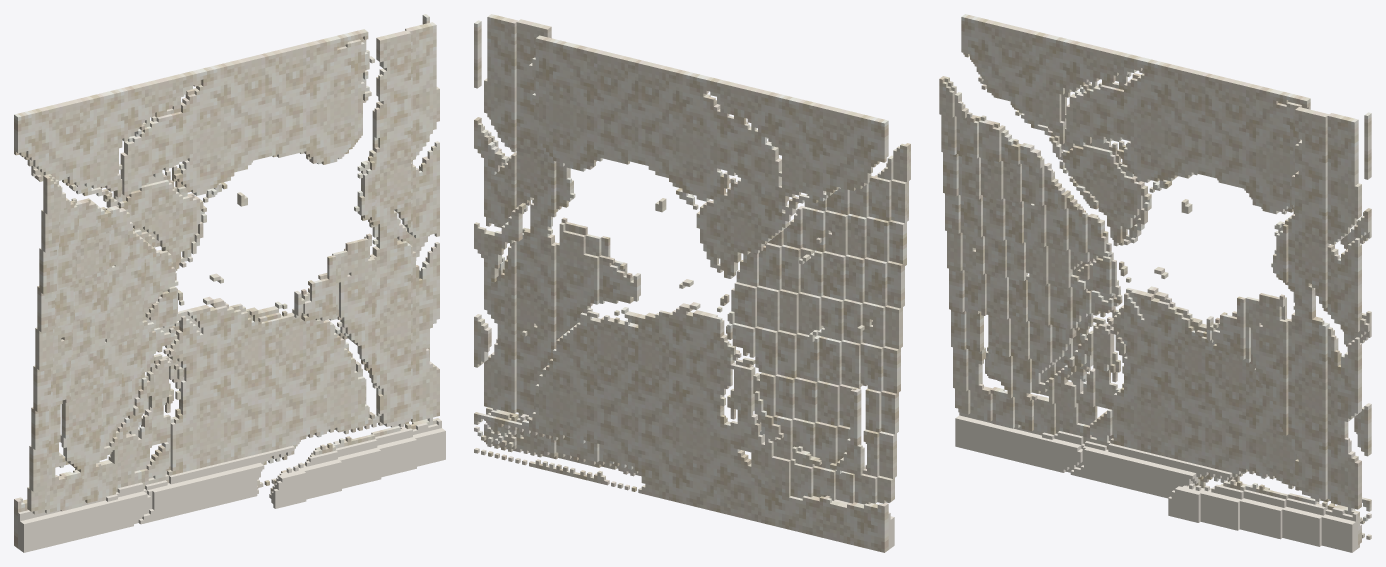
Rendered from w4.vox.obj.
3 views of the same model, side by side, from view 1: azimuth 30°, elevation 25°; view 2: azimuth 150°, elevation 25°; view 3: azimuth 330°, elevation 25° (orthographic).
Visible parts, largest first — view 1: wall paper; view 2: wall paper; view 3: wall paper.
Boxes of the visible parts, bbox=[...] form: wall paper: bbox=[14, 14, 445, 552]; wall paper: bbox=[474, 14, 910, 552]; wall paper: bbox=[939, 14, 1371, 552].
Size of the model in its own units: 12 by 12 by 1.5.
Materials: 1 (1 with a texture image).
